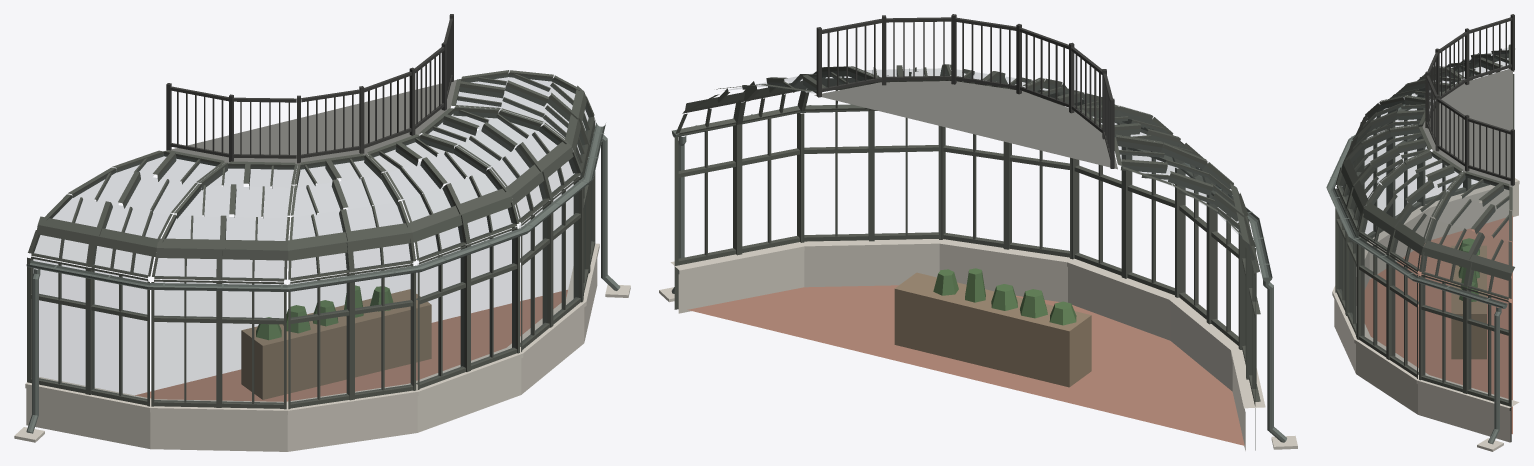
File: marshall_field_house_1905_prairie_conservatory__as_mapped_1904.glb
The picture shows the model from 3 angles, left to right: view 1: azimuth 30°, elevation 25°; view 2: azimuth 150°, elevation 25°; view 3: azimuth 270°, elevation 25°; orthographic projection. The views are drawn at different scales.
Parts seen in each view (by area): view 1: marshall_field_house_1905_prairie_conservatory__as_mapped_19; view 2: marshall_field_house_1905_prairie_conservatory__as_mapped_19; view 3: marshall_field_house_1905_prairie_conservatory__as_mapped_19.
Boxes of the visible parts, x1,y1,x2,y2 form: marshall_field_house_1905_prairie_conservatory__as_mapped_19: (14, 14, 630, 451); marshall_field_house_1905_prairie_conservatory__as_mapped_19: (659, 14, 1297, 450); marshall_field_house_1905_prairie_conservatory__as_mapped_19: (1326, 14, 1519, 451).
Size of the model in its own units: 9.17 by 4.34 by 2.99.
